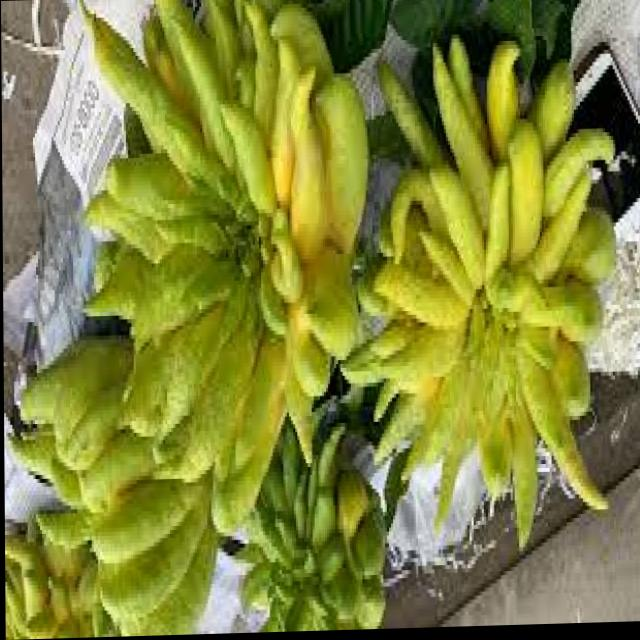PhatThu: (55, 0, 366, 553), (318, 27, 617, 569)
